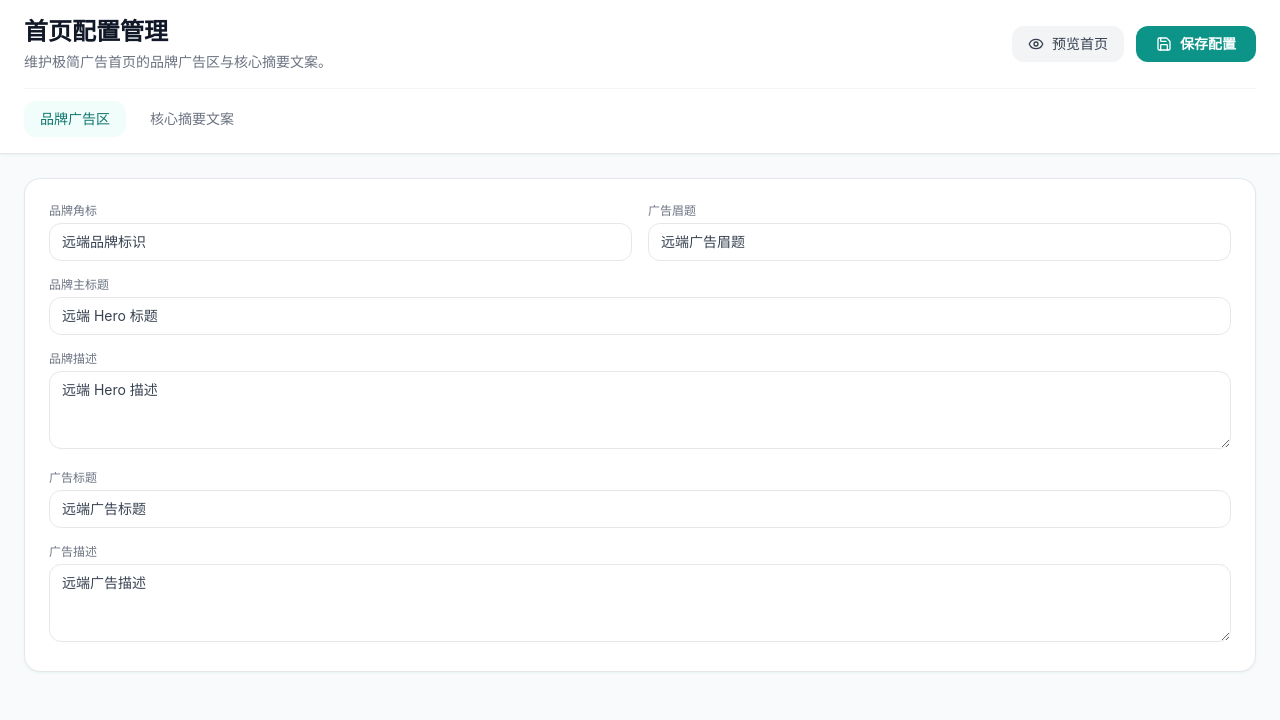
Test: Admin HomeConfig › renders the minimalist home config sections and hydrates current config fields
Expected: the heading "首页配置管理" is shown, [24,17,168,46]
Expected: the tab "品牌广告区" is shown, [24,101,126,137]
Click the tab "核心摘要文案": (192,119) [134,101,250,137]
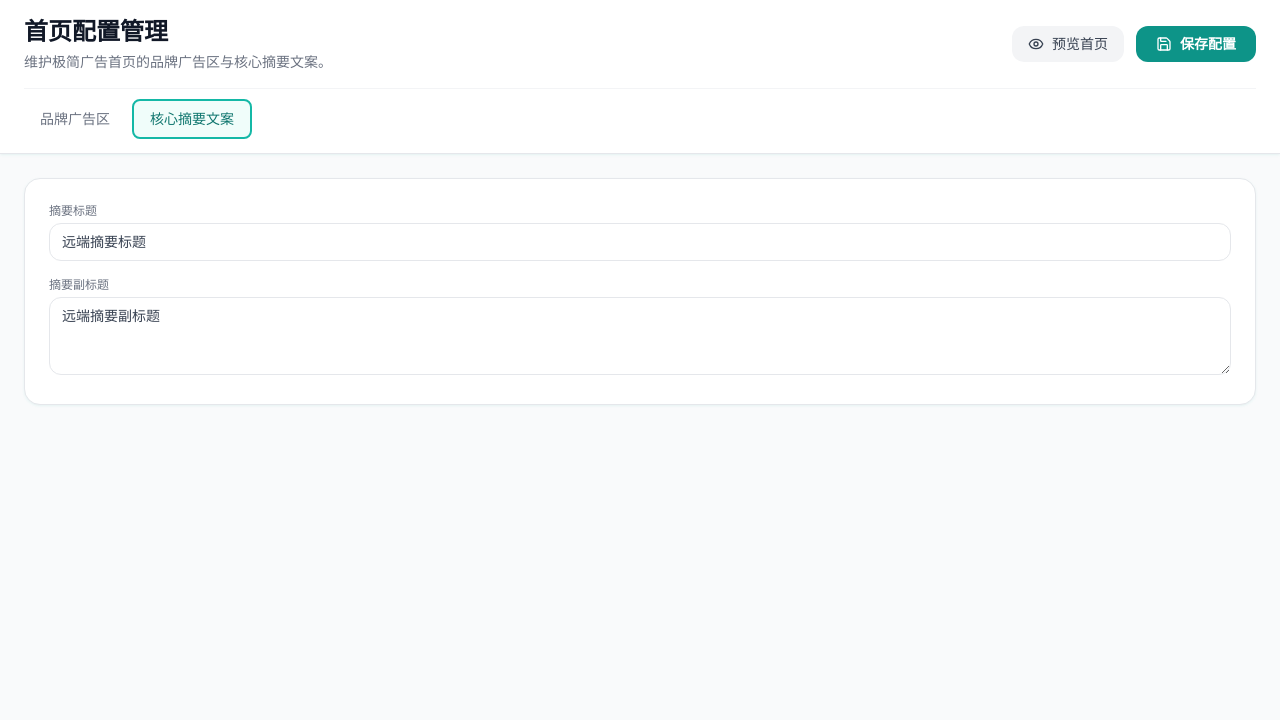
Now the field labelled "摘要标题" holds "远端摘要标题", box [49,223,1231,261]
Now the text box labelled "摘要副标题" holds "远端摘要副标题", box [49,297,1231,375]
